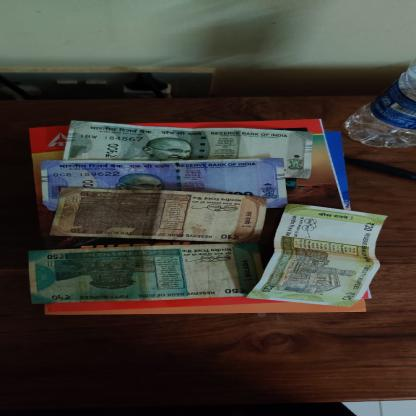New100Front: (40, 157, 289, 209)
New10Back: (49, 188, 269, 244)
New20Back: (245, 203, 388, 308)
New500Front: (63, 119, 315, 180)
New50Back: (28, 244, 266, 305)
